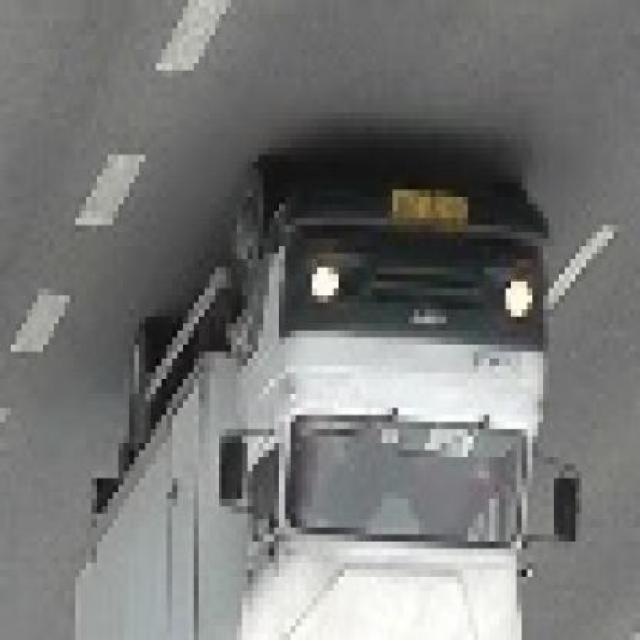truck: (87, 170, 587, 640)
